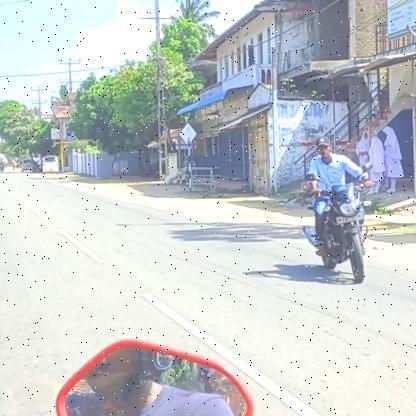motorcycle: (300, 180, 380, 285)
